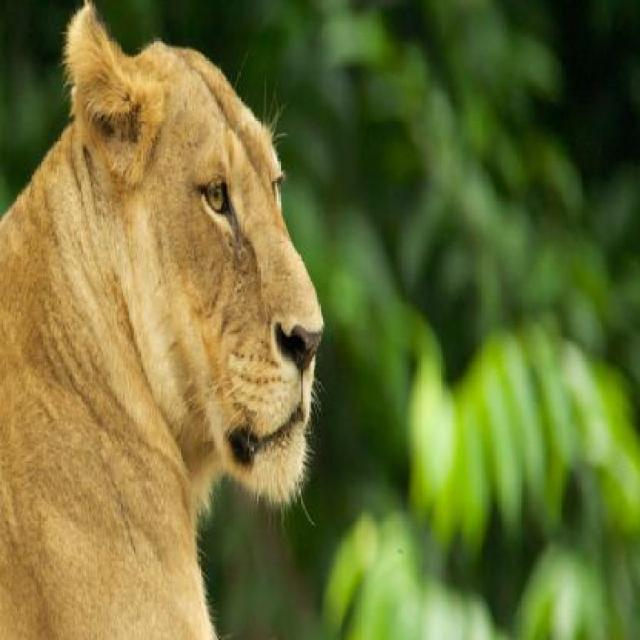Lion: (2, 9, 343, 638)
